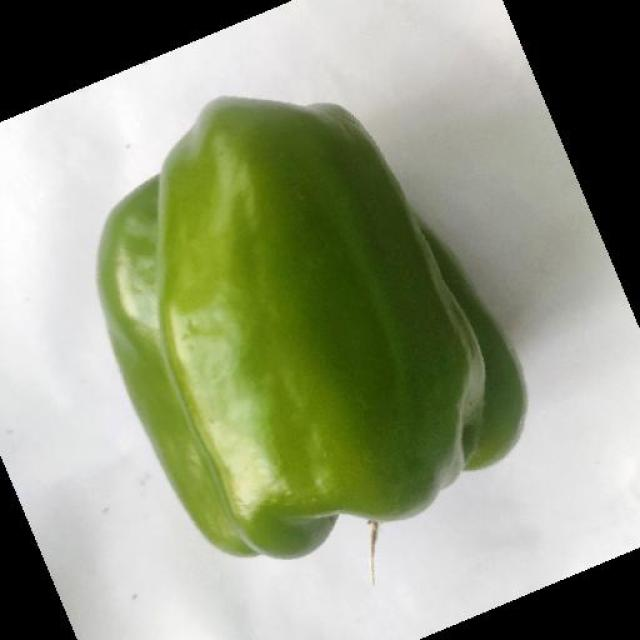Fresh_Capsicum: (90, 102, 512, 543)
